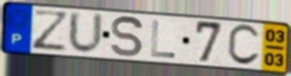7: (194, 19, 225, 65)
C: (225, 23, 262, 68)
L: (150, 19, 177, 60)
S: (110, 14, 145, 59)
U: (67, 10, 105, 57)
Z: (31, 8, 71, 53)
